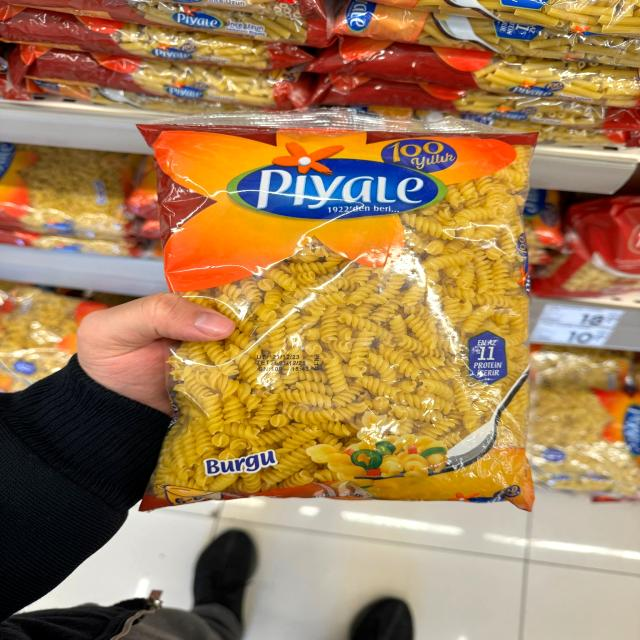fusilli pasta: (147, 132, 536, 506)
